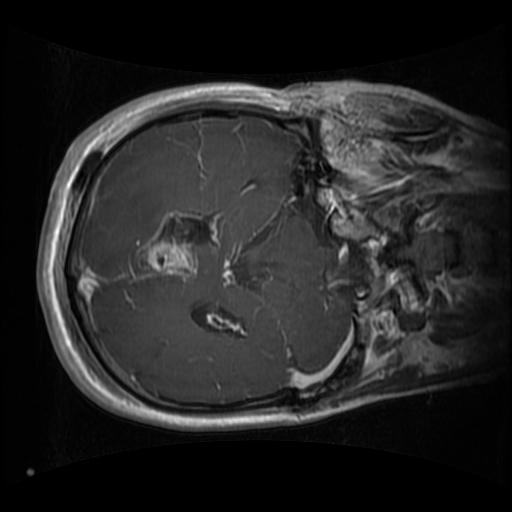glioma: (125, 210, 220, 287)
